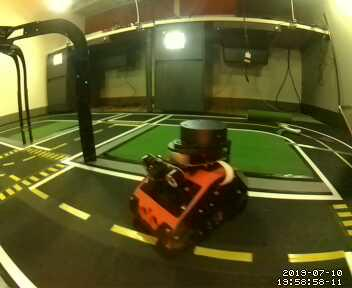pheeno: (133, 116, 249, 266)
